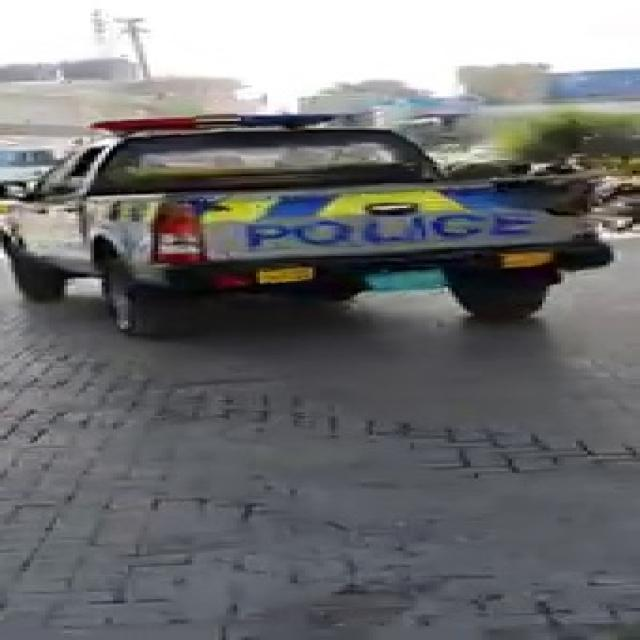police: (35, 129, 564, 291)
